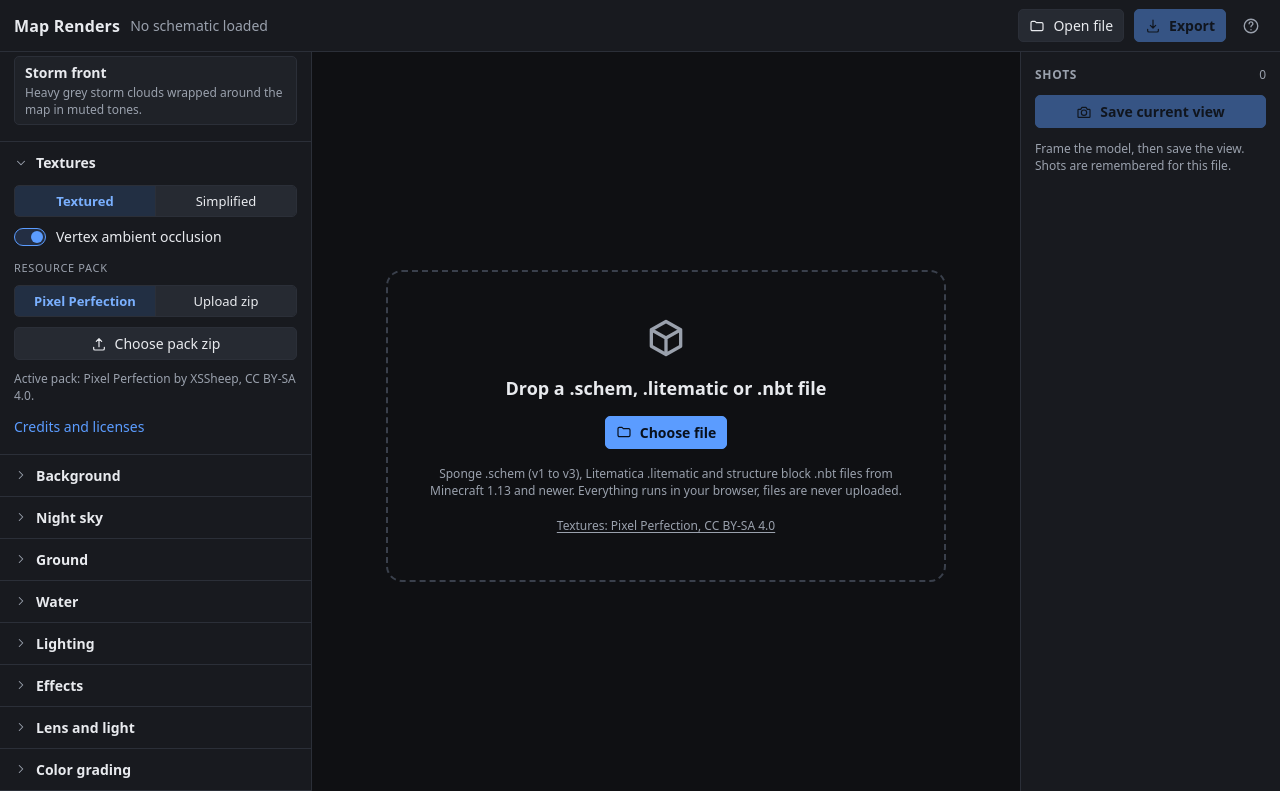
Test: App › opens the credits dialog with real links from the textures section
(page scrolled)
Click the button "Credits and licenses".
click(82, 426)  # box x1=14 y1=415 x2=150 y2=438
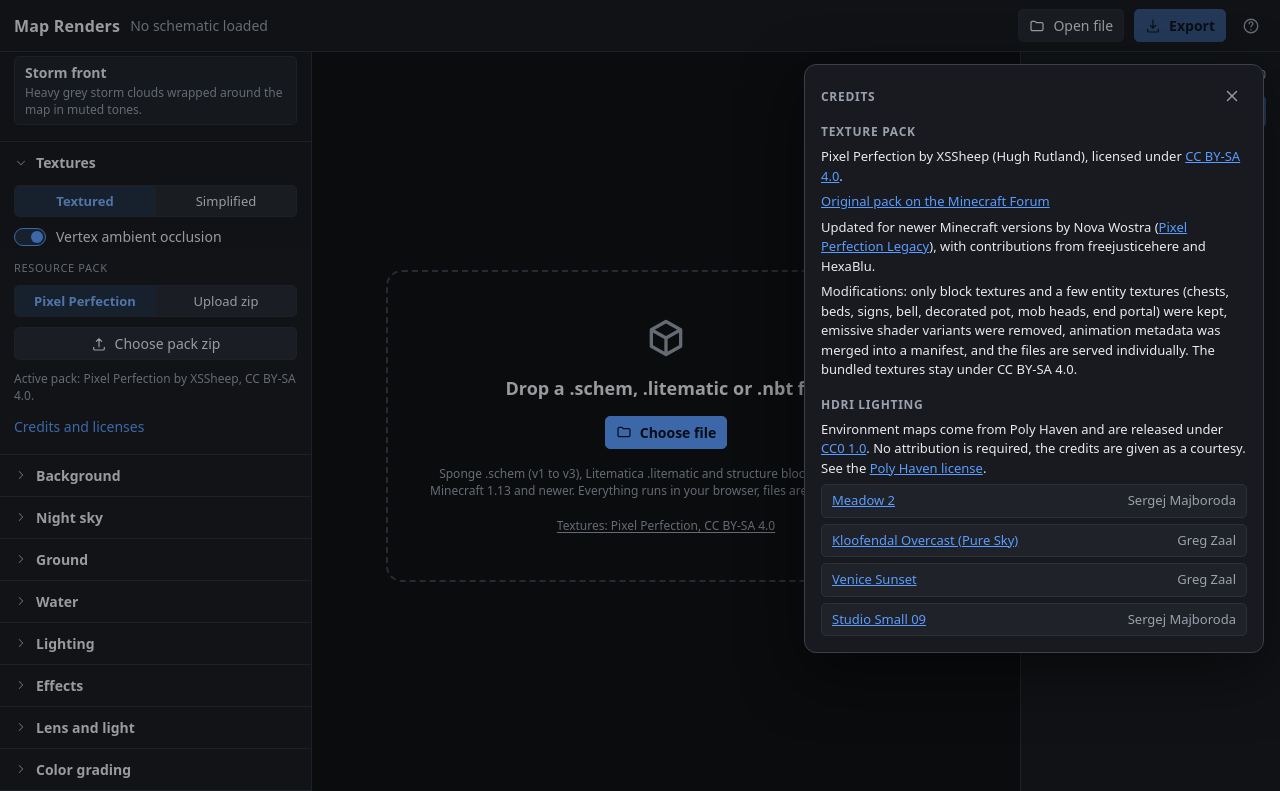
Check: the dialog "Credits" shows "XSSheep", box x1=821 y1=147 x2=1182 y2=165
